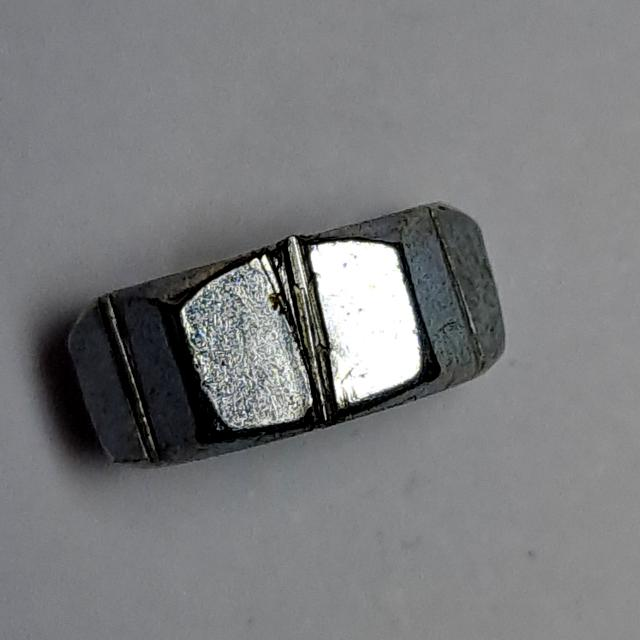Side_Scratches: (53, 189, 520, 481)
